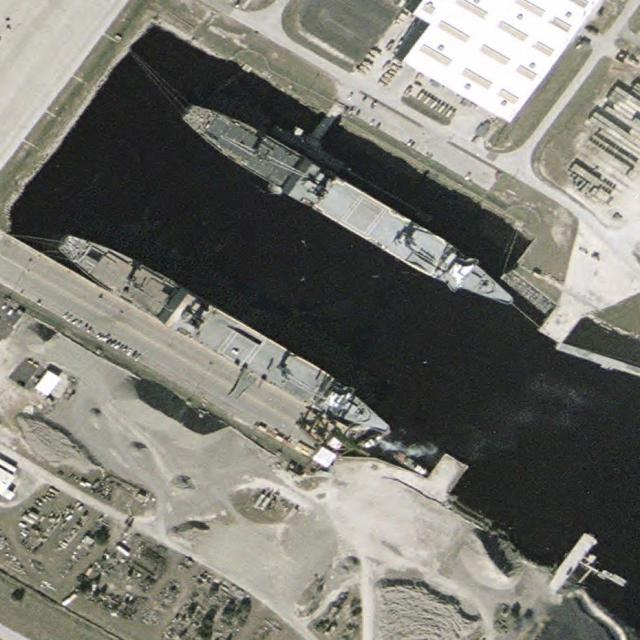Cargo: (49, 220, 401, 451), (175, 92, 524, 321)
